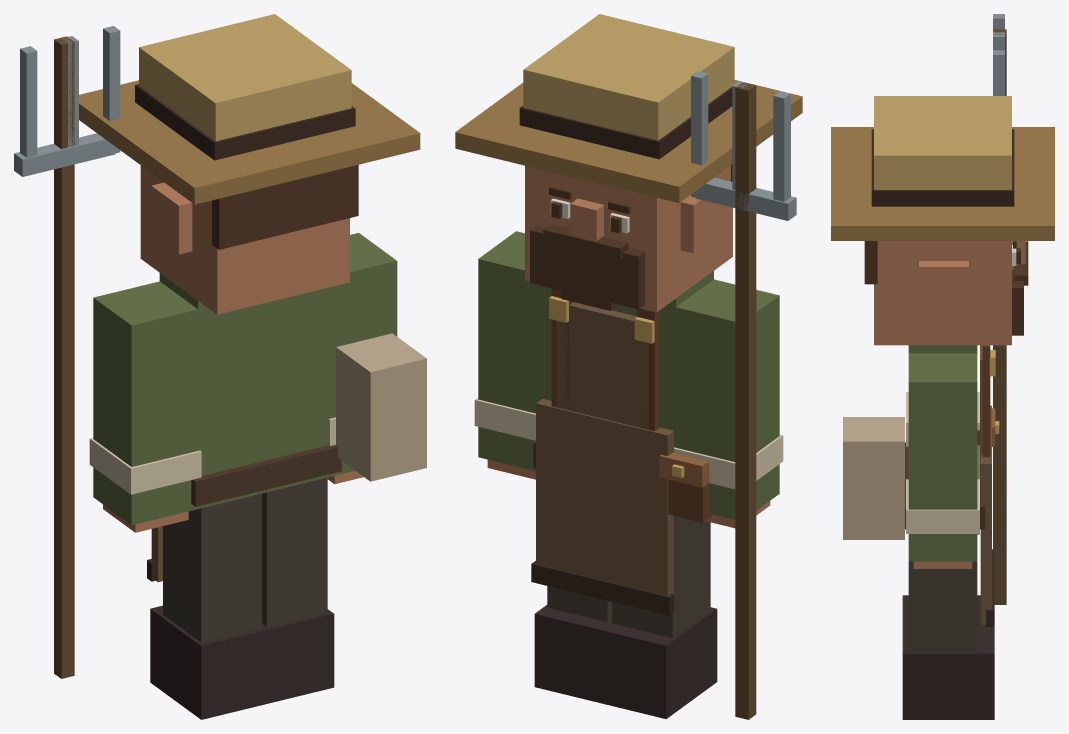
File: farmer.obj
The picture shows the model from 3 angles, left to right: view 1: azimuth 30°, elevation 25°; view 2: azimuth 150°, elevation 25°; view 3: azimuth 270°, elevation 25°; orthographic projection. The views are drawn at different scales.
Parts seen in each view (by area): view 1: body_0_chest, right_arm_18_right_arm, head_31_hat_crown, head_30_hat_brim, head_3_head, equipment_right_44_pitchfork_handle, right_leg_24_right_leg, equipment_back_43_grain_sack, right_leg_26_right_boot, left_leg_25_left_leg, head_14_hair_back, left_arm_19_left_arm (+10 smaller); view 2: body_34_apron_skirt, head_31_hat_crown, right_arm_18_right_arm, equipment_right_44_pitchfork_handle, head_30_hat_brim, left_arm_19_left_arm, head_3_head, body_33_apron_chest, right_leg_26_right_boot, head_15_beard, left_leg_27_left_boot, right_leg_24_right_leg (+16 smaller); view 3: head_30_hat_brim, head_31_hat_crown, left_arm_19_left_arm, head_3_head, equipment_back_43_grain_sack, left_leg_27_left_boot, left_leg_25_left_leg, equipment_right_44_pitchfork_handle, head_32_hat_band, head_4_left_ear, left_arm_22_cuff, body_34_apron_skirt (+8 smaller).
Part boxes in pixels (<box>): body_0_chest: <box>159,273,330,508</box>; right_arm_18_right_arm: <box>93,281,197,525</box>; head_31_hat_crown: <box>139,14,351,141</box>; head_30_hat_brim: <box>79,80,420,204</box>; head_3_head: <box>140,165,349,314</box>; equipment_right_44_pitchfork_handle: <box>54,36,74,678</box>; right_leg_24_right_leg: <box>163,493,261,642</box>; equipment_back_43_grain_sack: <box>336,333,426,481</box>; right_leg_26_right_boot: <box>150,605,268,719</box>; left_leg_25_left_leg: <box>262,477,327,626</box>; head_14_hair_back: <box>212,164,358,249</box>; left_arm_19_left_arm: <box>330,233,397,476</box>; body_34_apron_skirt: <box>536,399,673,595</box>; head_31_hat_crown: <box>523,14,734,140</box>; right_arm_18_right_arm: <box>676,279,779,519</box>; equipment_right_44_pitchfork_handle: <box>735,82,756,719</box>; head_30_hat_brim: <box>455,80,802,202</box>; left_arm_19_left_arm: <box>478,231,543,471</box>; head_3_head: <box>525,165,732,312</box>; body_33_apron_chest: <box>556,302,648,429</box>; right_leg_26_right_boot: <box>599,607,717,719</box>; head_15_beard: <box>530,225,645,309</box>; left_leg_27_left_boot: <box>534,605,612,702</box>; right_leg_24_right_leg: <box>612,516,710,637</box>; head_30_hat_brim: <box>831,127,1054,240</box>; head_31_hat_crown: <box>874,96,1011,189</box>; left_arm_19_left_arm: <box>908,353,977,561</box>; head_3_head: <box>874,241,1011,345</box>; equipment_back_43_grain_sack: <box>843,417,904,539</box>; left_leg_27_left_boot: <box>902,624,994,719</box>; left_leg_25_left_leg: <box>908,561,977,652</box>; equipment_right_44_pitchfork_handle: <box>993,29,1006,604</box>; head_32_hat_band: <box>871,129,1014,206</box>; head_4_left_ear: <box>919,261,968,310</box>; left_arm_22_cuff: <box>906,479,979,533</box>; body_34_apron_skirt: <box>980,405,991,624</box>.
Bounding box in the file's own units: 1.25 × 2.38 × 0.8125.
